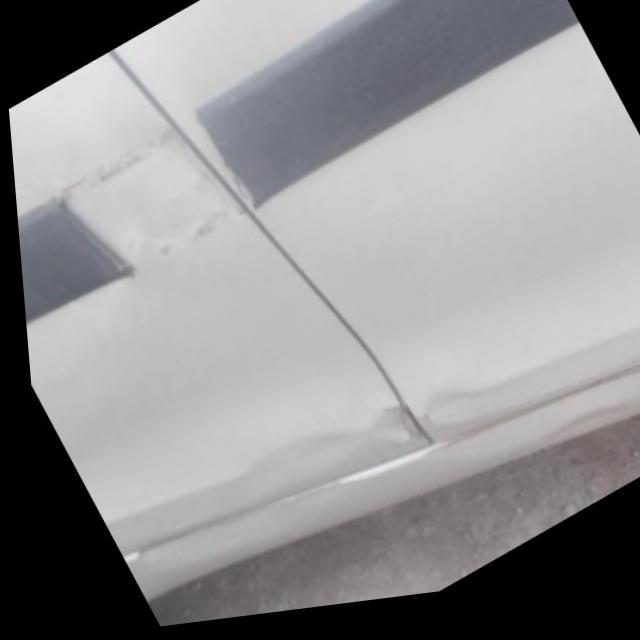dent: (410, 376, 494, 454), (357, 403, 411, 463)
no part: (51, 114, 252, 281)
scratch: (220, 439, 357, 500)
